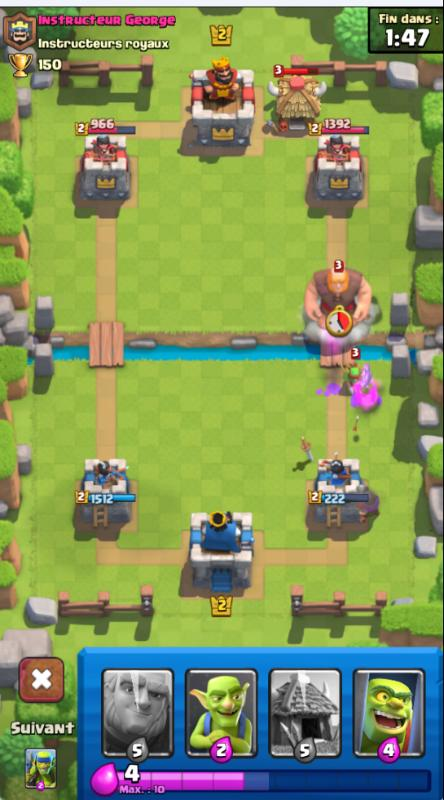geant: (298, 258, 377, 329)
gobelin_lances: (338, 349, 369, 395)
